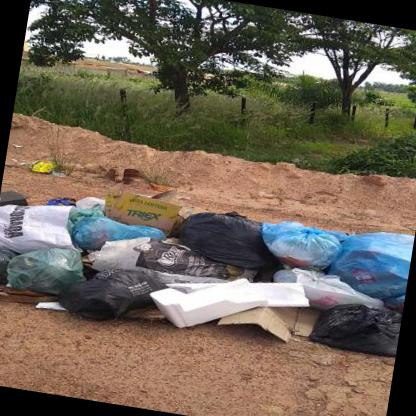lixo: (0, 174, 414, 357)
